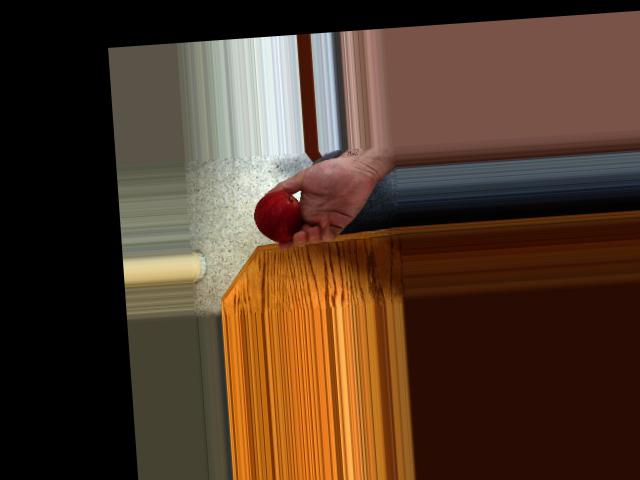apple: (250, 189, 304, 242)
